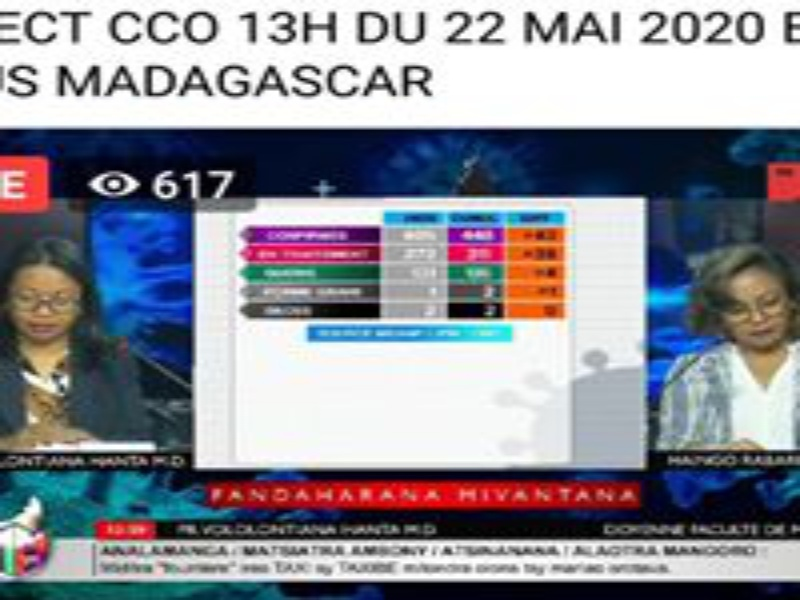TsisyArotava: (707, 242, 800, 357), (7, 244, 90, 351)
